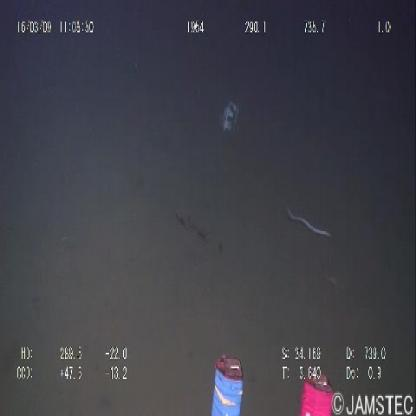Bio: (279, 193, 337, 254)
Rov: (205, 349, 332, 416)
Rác: (215, 89, 246, 142)
